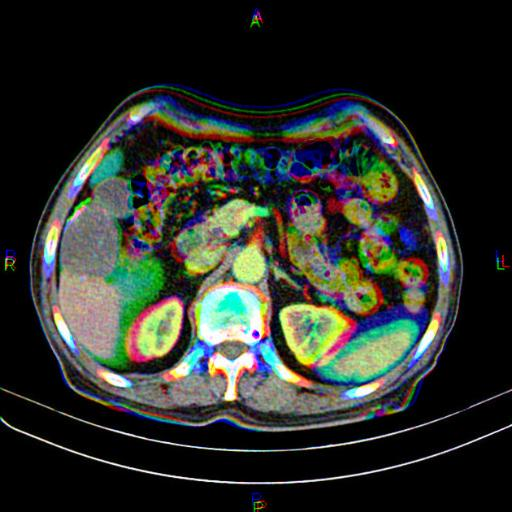Cyst: (59, 178, 132, 276)
